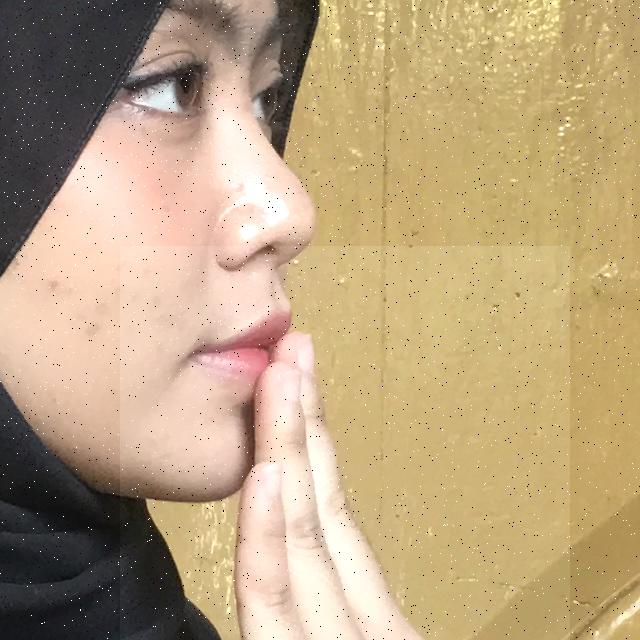ganteng: (120, 246, 570, 640)
